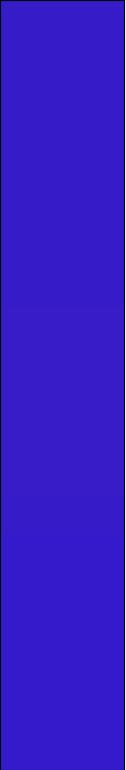safe: (9, 15, 118, 760)
